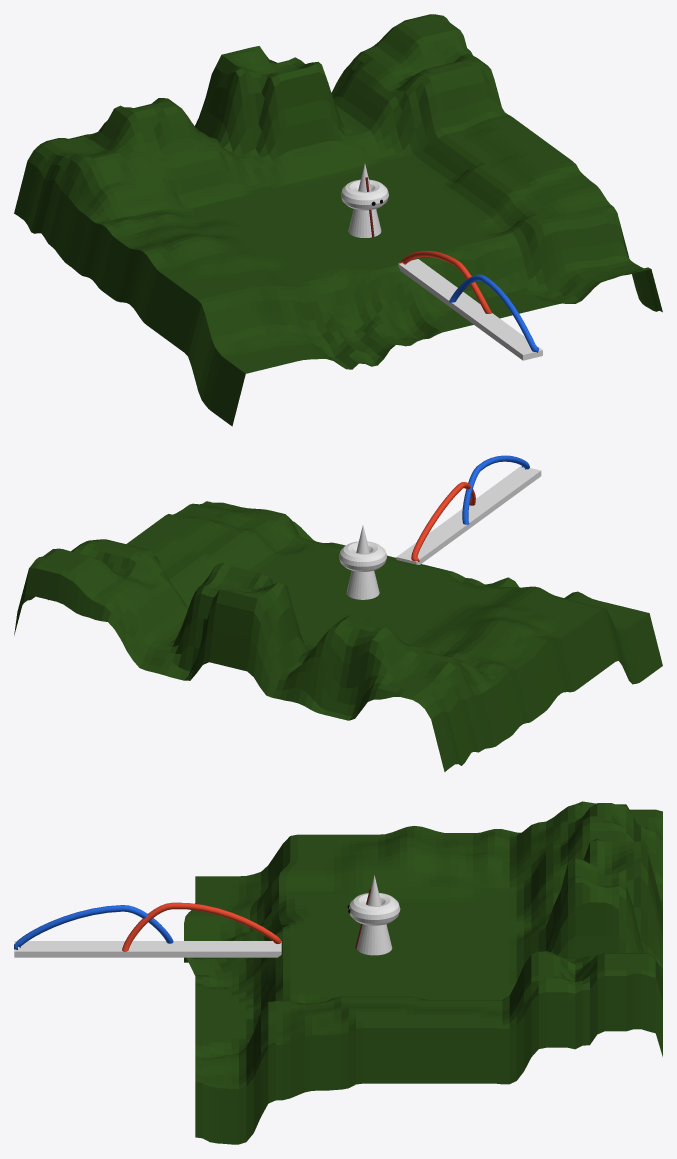
Rendered from daejeon.glb.
The picture shows the model from 3 angles, top to bottom: view 1: azimuth 30°, elevation 25°; view 2: azimuth 150°, elevation 25°; view 3: azimuth 270°, elevation 25°; orthographic projection. The views are drawn at different scales.
Visible parts, largest first — view 1: Plane.001, Cube, Torus, Cone, BézierCurve.002, BézierCurve.001; view 2: Plane.001, Cube, Torus, Cone, BézierCurve.001, BézierCurve.002; view 3: Plane.001, Cube, BézierCurve.001, BézierCurve.002, Torus, Cone.
Boxes of the visible parts, bbox=[...] form: Plane.001: bbox=[14, 14, 662, 426]; Cube: bbox=[398, 259, 542, 360]; Torus: bbox=[341, 179, 388, 210]; Cone: bbox=[348, 163, 381, 237]; BézierCurve.002: bbox=[449, 274, 538, 352]; BézierCurve.001: bbox=[399, 250, 491, 313]; Plane.001: bbox=[14, 501, 662, 771]; Cube: bbox=[396, 465, 541, 564]; Torus: bbox=[339, 541, 386, 571]; Cone: bbox=[346, 525, 379, 599]; BézierCurve.001: bbox=[411, 482, 475, 561]; BézierCurve.002: bbox=[462, 455, 529, 525]; Plane.001: bbox=[184, 801, 662, 1144]; Cube: bbox=[14, 941, 281, 957]; BézierCurve.001: bbox=[122, 902, 281, 951]; BézierCurve.002: bbox=[14, 905, 173, 949]; Torus: bbox=[348, 893, 400, 925]; Cone: bbox=[357, 875, 392, 955].
Bounding box in the file's own units: 15.94 × 6.11 × 19.42.
